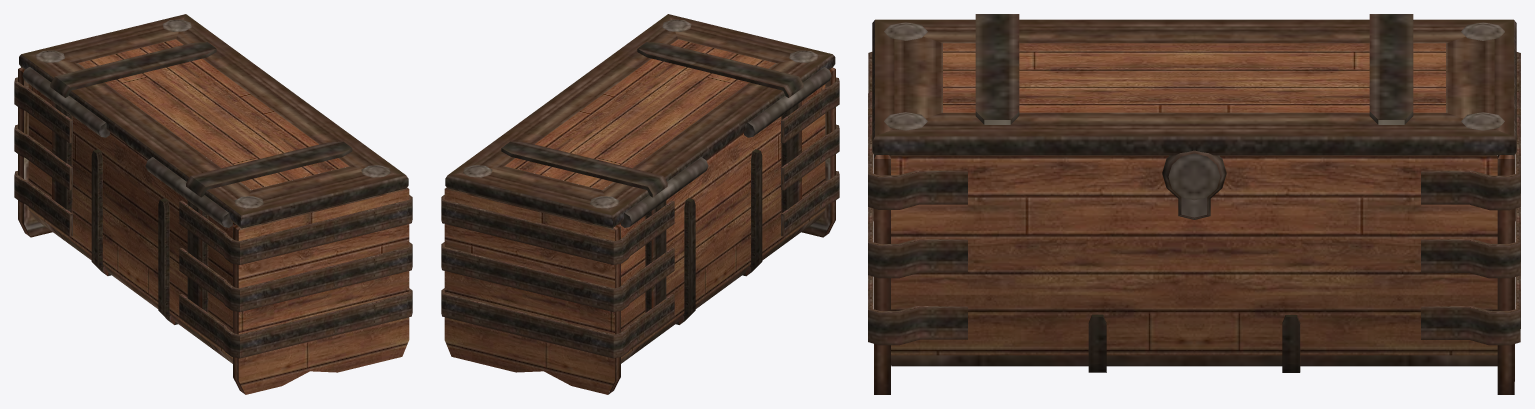
File: o_mdl_env_propFurnitureChestSimpleB-transformed.glb
The picture shows the model from 3 angles, left to right: view 1: azimuth 30°, elevation 25°; view 2: azimuth 150°, elevation 25°; view 3: azimuth 270°, elevation 25°; orthographic projection. The views are drawn at different scales.
Parts seen in each view (by area): view 1: default; view 2: default; view 3: default.
Boxes of the visible parts, box(x1,y1,x2,y2) form: default: box(14, 14, 412, 394); default: box(441, 14, 839, 394); default: box(868, 14, 1520, 394).
Size of the model in its own units: 0.8413 by 0.8154 by 1.8.
Materials: 2 (2 with a texture image).
